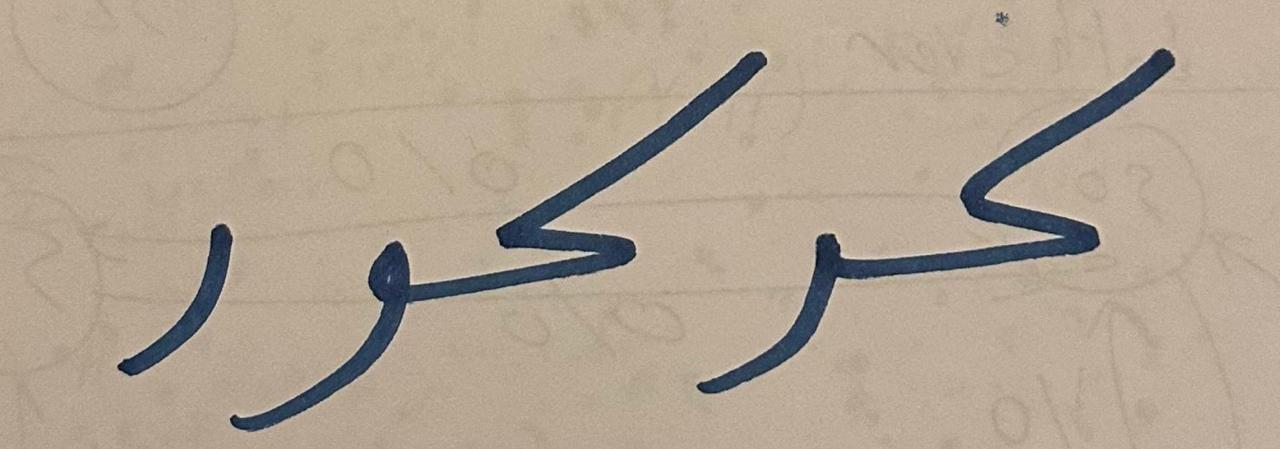khah: (888, 4, 1217, 362), (443, 12, 680, 383)
sad: (65, 115, 241, 396), (684, 180, 884, 413)
yeh: (245, 162, 437, 446)
